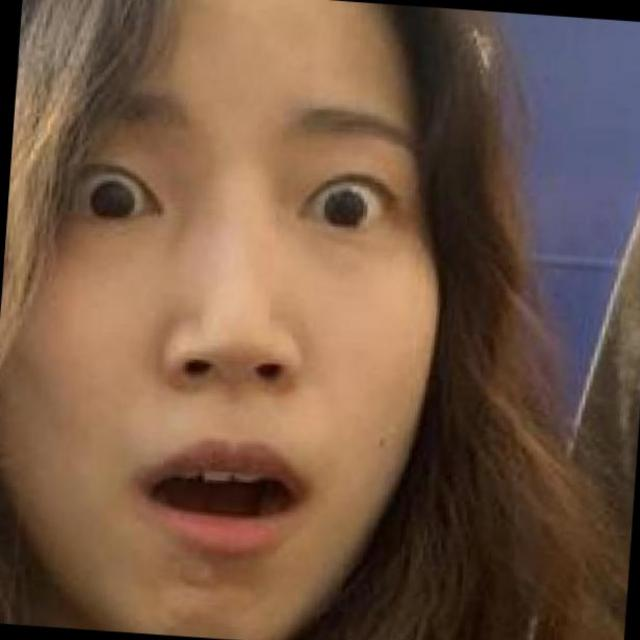Surprised: (35, 40, 513, 632)
